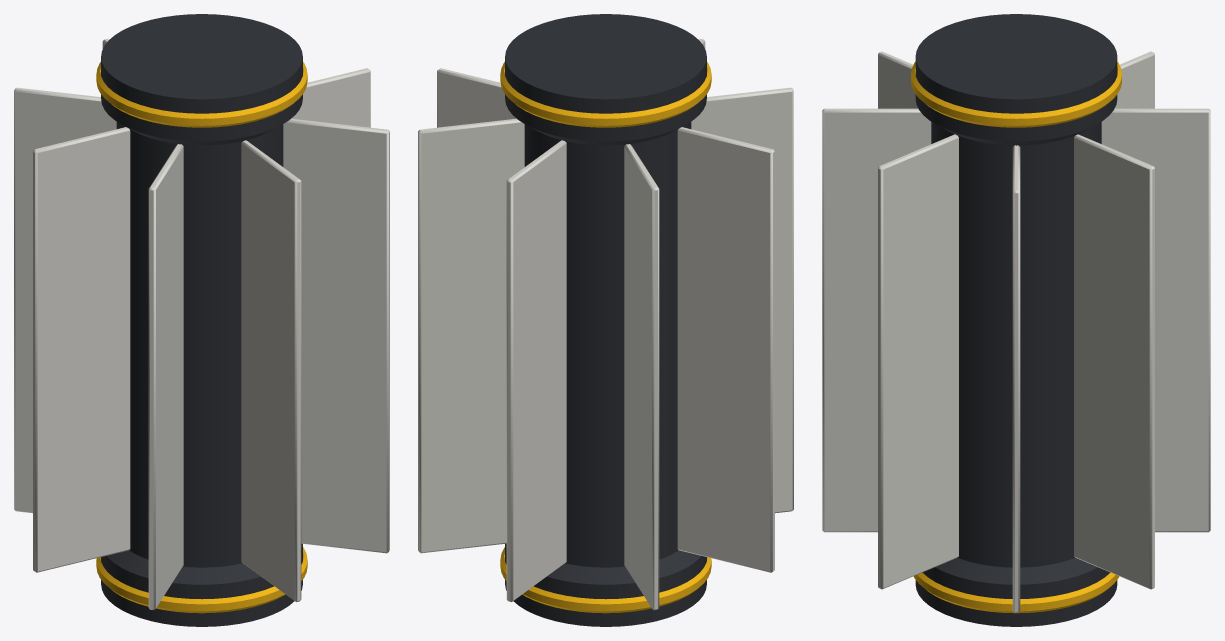
The model's file is rtg.glb.
3 views of the same model, side by side, from view 1: azimuth 30°, elevation 25°; view 2: azimuth 150°, elevation 25°; view 3: azimuth 270°, elevation 25° (orthographic).
Parts seen in each view (by area): view 1: Fins, Core, Band1.44, Band0.06; view 2: Fins, Core, Band1.44, Band0.06; view 3: Fins, Core, Band1.44, Band0.06.
Part boxes in pixels (left/top/right/bottom): Fins: left=14, top=38, right=389, bottom=609; Core: left=101, top=14, right=302, bottom=626; Band1.44: left=96, top=62, right=307, bottom=127; Band0.06: left=96, top=547, right=307, bottom=613; Fins: left=418, top=38, right=793, bottom=609; Core: left=505, top=14, right=706, bottom=626; Band1.44: left=500, top=62, right=711, bottom=127; Band0.06: left=500, top=547, right=711, bottom=613; Fins: left=822, top=51, right=1210, bottom=612; Core: left=915, top=14, right=1117, bottom=626; Band1.44: left=911, top=61, right=1121, bottom=127; Band0.06: left=913, top=572, right=1119, bottom=613.
Bounding box in the file's own units: 1 × 1.5 × 1.
